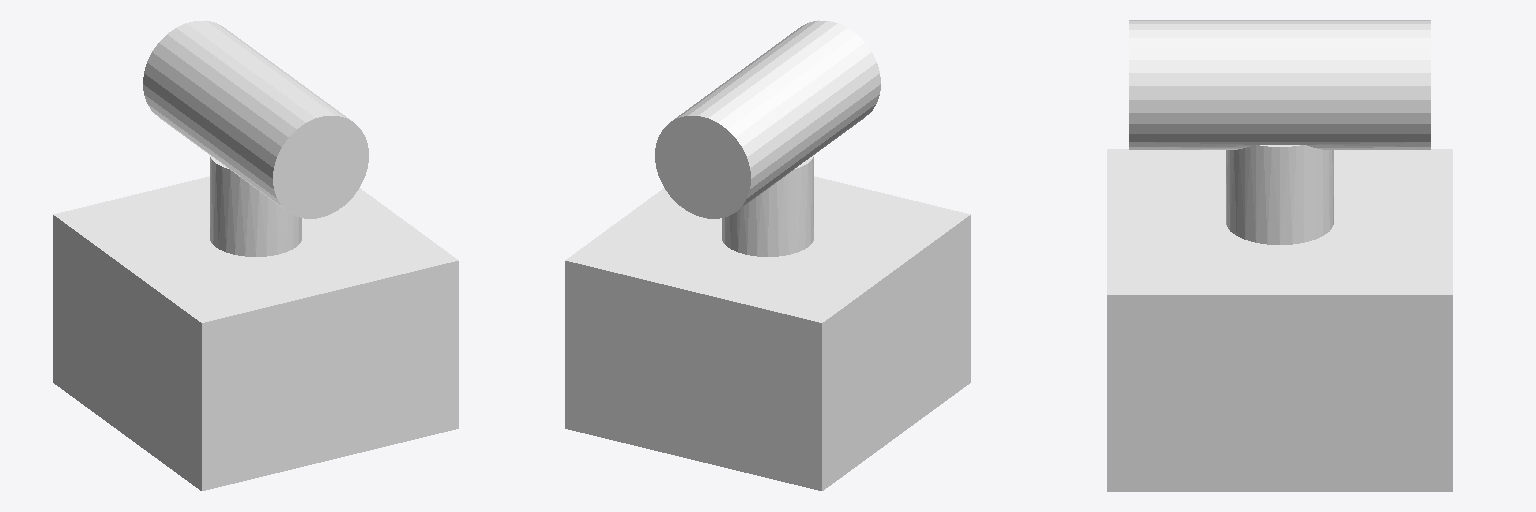
URDF robot description (cylinder_side):
<robot name="cylinder_side">
	<link name="_name">
		<visual>
			<origin rpy="0 0 0" xyz="-1.2878155389694833e-08 9.570556488741103e-09 -0.007734891111219653" />
			<geometry>
				<mesh filename="cylinder_side.obj" scale=".001 .001 .001" />
			</geometry>
			<material name="texture">
				<color rgba="1.0 1.0 1.0 1.0" />
			</material>
		</visual>
		<collision>
			<geometry>
				<mesh filename="cylinder_side_vhacd.obj" scale=".001 .001 .001" />
			</geometry>
		<origin rpy="0 0 0" xyz="-1.2878155389694833e-08 9.570556488741103e-09 -0.007734891111219653" /></collision>
		<inertial>
			<mass value="1.0" />
			<inertia ixx="1.0" ixy="0.0" ixz="0.0" iyy="1.0" iyz="0.0" izz="1.0" />
		</inertial>
	</link>
</robot>

--- Facts derived from the render (not from the file) ---
Views: 3 orthographic renders of the robot side by side, from view 1: azimuth 30°, elevation 25°; view 2: azimuth 150°, elevation 25°; view 3: azimuth 270°, elevation 25°.
Model cylinder_side with 1 links and 0 joints (none), rooted at _name, posed every joint at zero.
Links seen in each view (by area): view 1: _name; view 2: _name; view 3: _name.
Boxes of the visible links, box(x1,y1,x2,y2) form: _name: box(53, 20, 458, 490); _name: box(565, 20, 970, 490); _name: box(1107, 20, 1452, 491).
Size in the robot's own frame: 0.016 by 0.016 by 0.02 metres.
1 mesh visuals loaded from 1 distinct referenced files (1 OBJ).